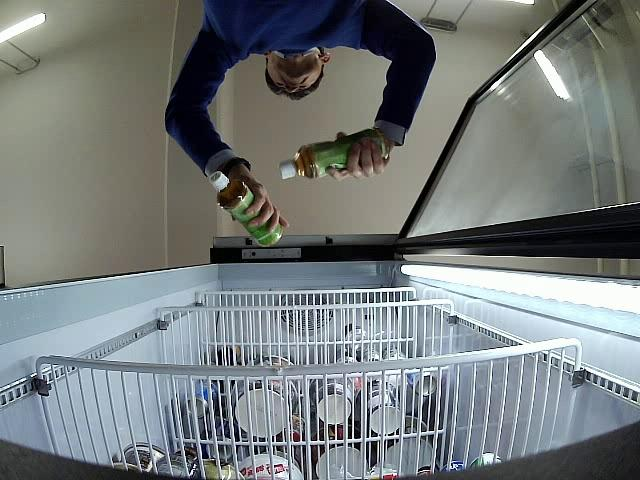00_hand: (228, 163, 290, 229), (329, 139, 393, 178)
19_17cha: (208, 169, 283, 247), (281, 130, 385, 178)
